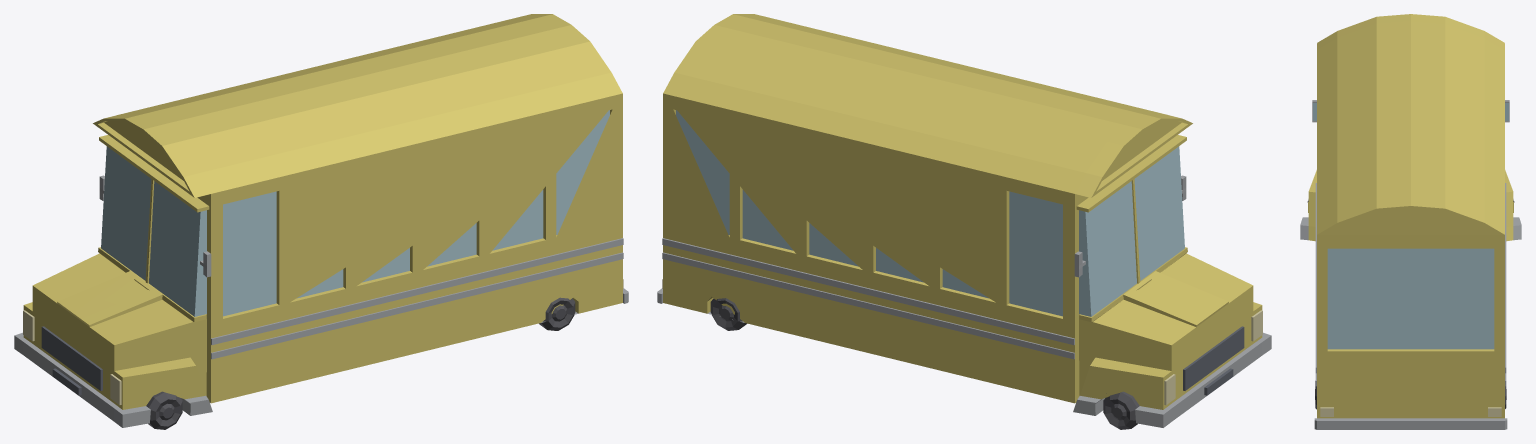
File: SchoolBus.glb
3 renders of one model, left to right at view 1: azimuth 30°, elevation 25°; view 2: azimuth 150°, elevation 25°; view 3: azimuth 270°, elevation 25°, orthographic. The views are drawn at different scales.
Visible parts, largest first — view 1: SchoolBus.obj; view 2: SchoolBus.obj; view 3: SchoolBus.obj.
Part boxes in pixels (<box>): SchoolBus.obj: <box>14,14,628,429</box>; SchoolBus.obj: <box>657,14,1271,429</box>; SchoolBus.obj: <box>1300,14,1521,429</box>.
Size of the model in its own units: 4.61 by 2.19 by 1.88.
